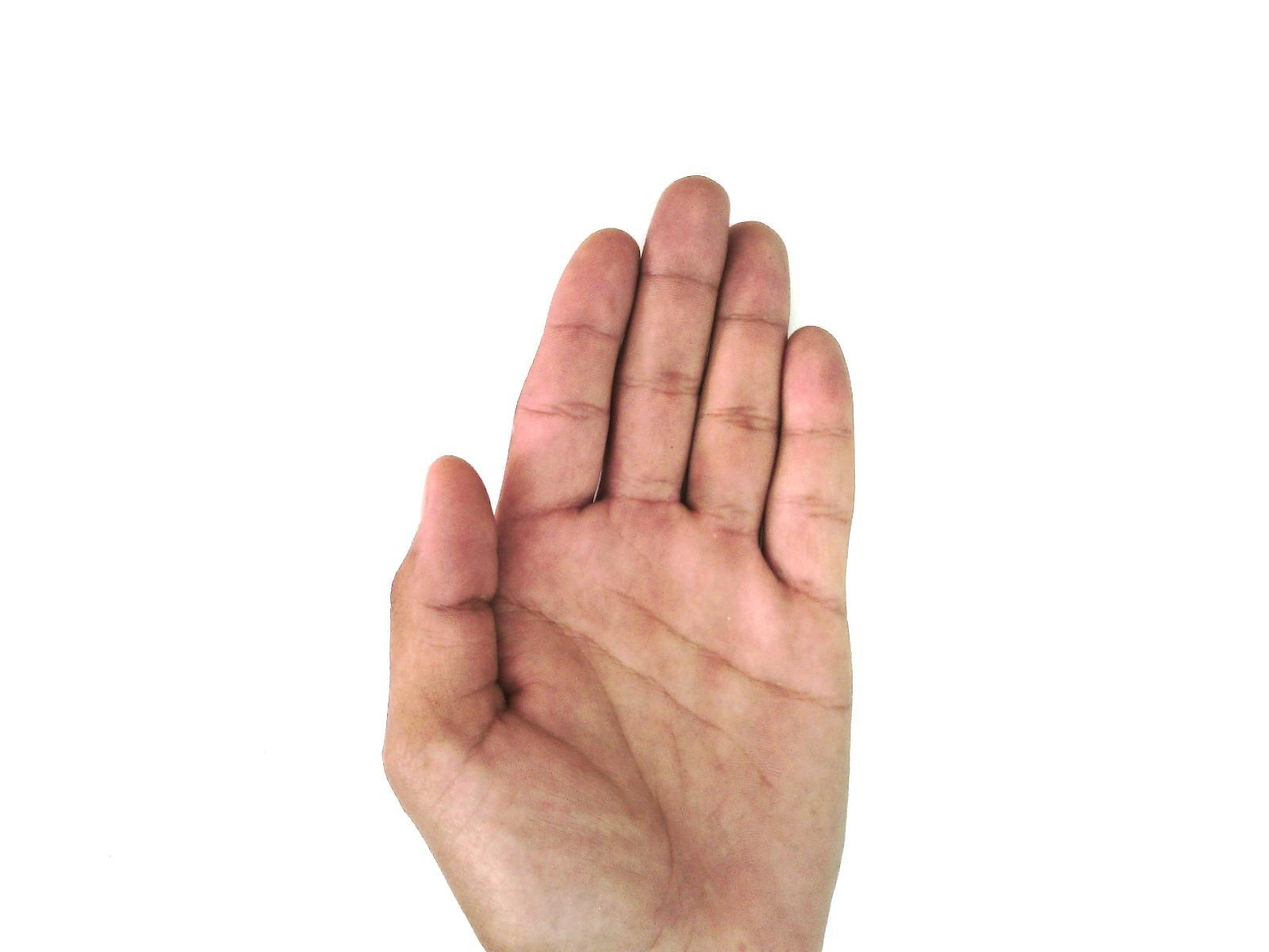open_palm: (380, 174, 861, 952)
